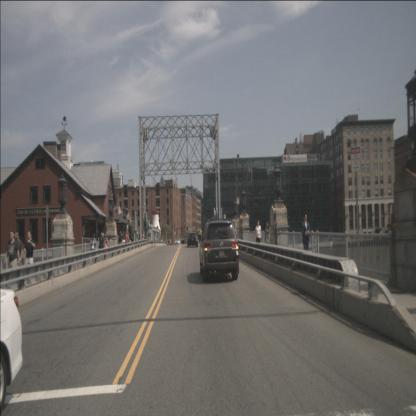human-pedestrian-adult: (4, 232, 20, 290), (24, 231, 35, 283), (13, 233, 23, 286), (302, 214, 310, 269), (255, 220, 262, 253), (265, 221, 270, 254), (90, 234, 96, 261), (99, 232, 104, 257), (118, 231, 123, 252), (125, 232, 129, 251), (142, 232, 145, 245), (170, 238, 172, 246)
vehicle-car: (199, 220, 240, 282), (188, 232, 198, 248), (175, 238, 181, 245)
